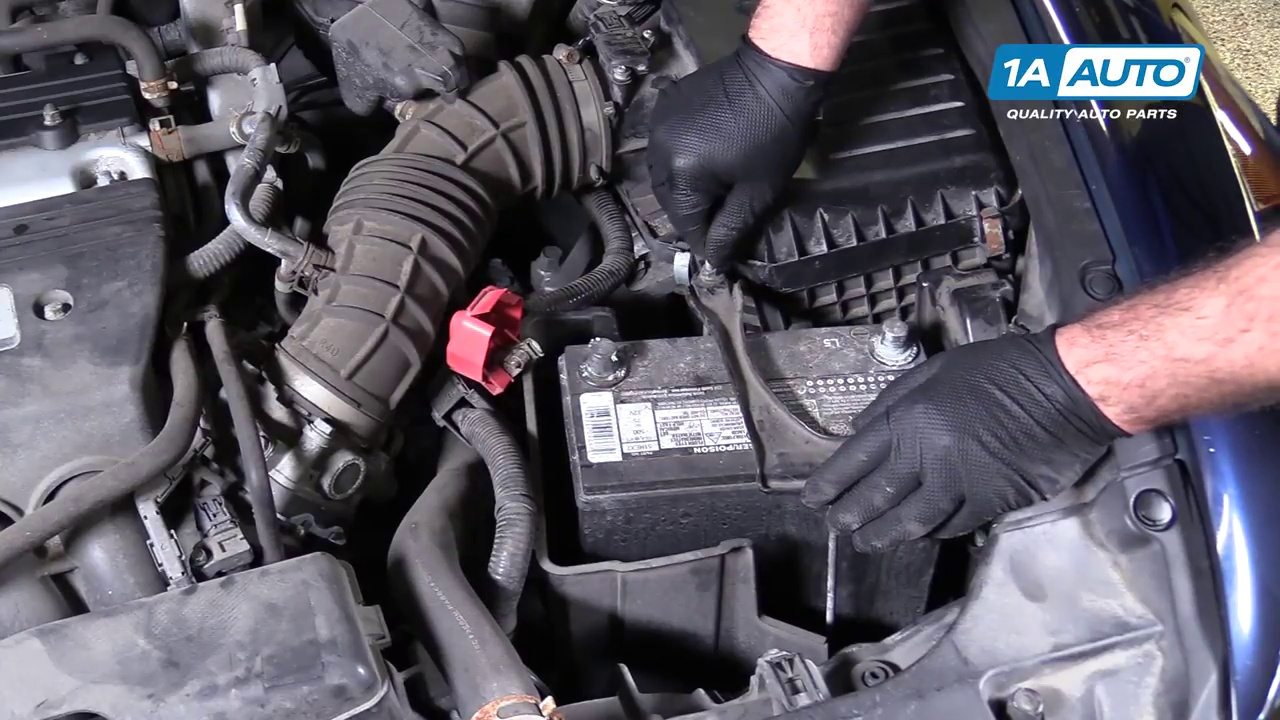battery: (557, 309, 945, 501)
neg_disconnected: (837, 310, 938, 373)
pos_disconnected: (439, 290, 637, 406)
